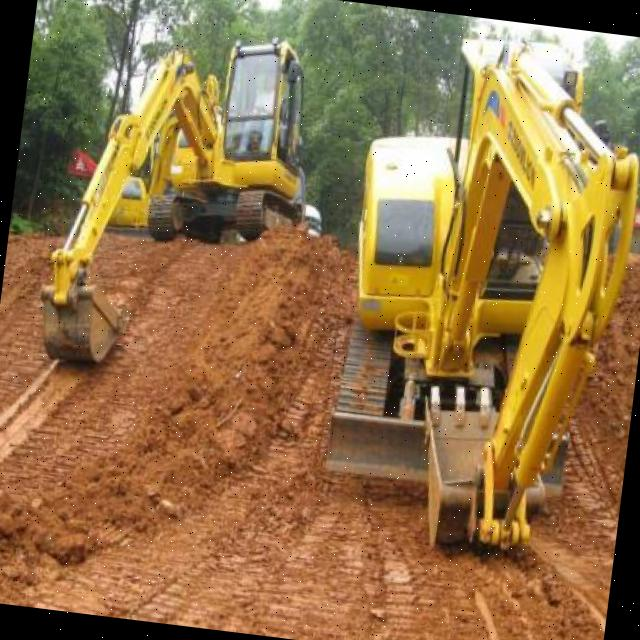Excavator: (312, 24, 640, 566), (34, 0, 323, 387)
